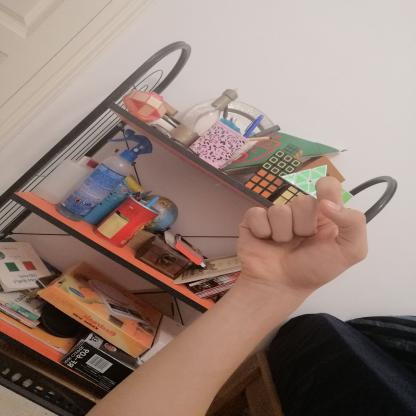FAA: (221, 166, 387, 300)
